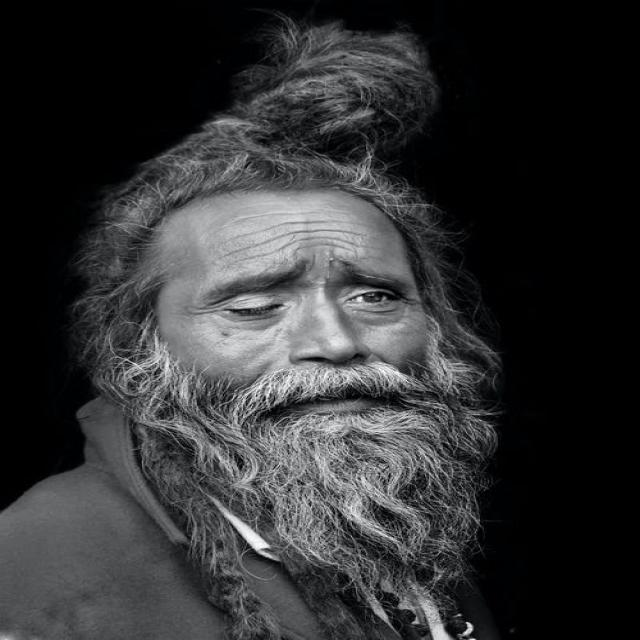Wrinkles: (220, 229, 360, 258), (234, 237, 373, 263), (222, 221, 374, 243), (242, 212, 309, 218), (297, 244, 349, 250), (309, 253, 314, 272)
